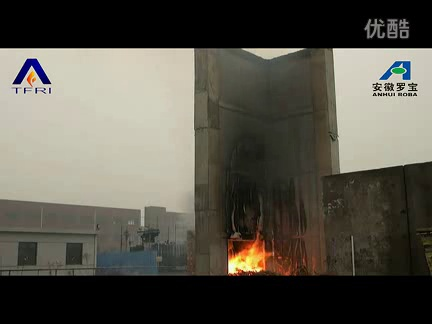fire: (229, 239, 269, 274)
